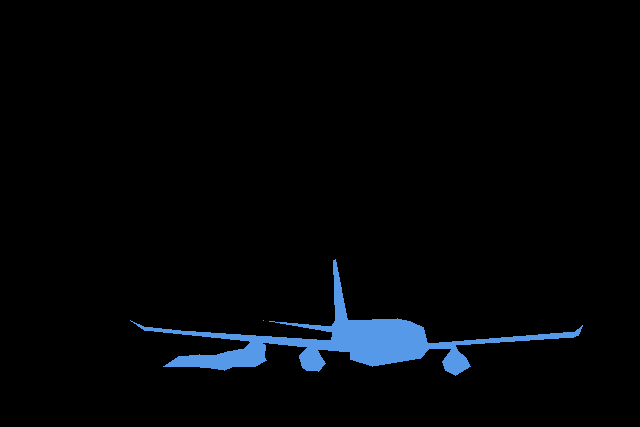Airplane: (130, 259, 582, 375), (163, 341, 267, 370)
